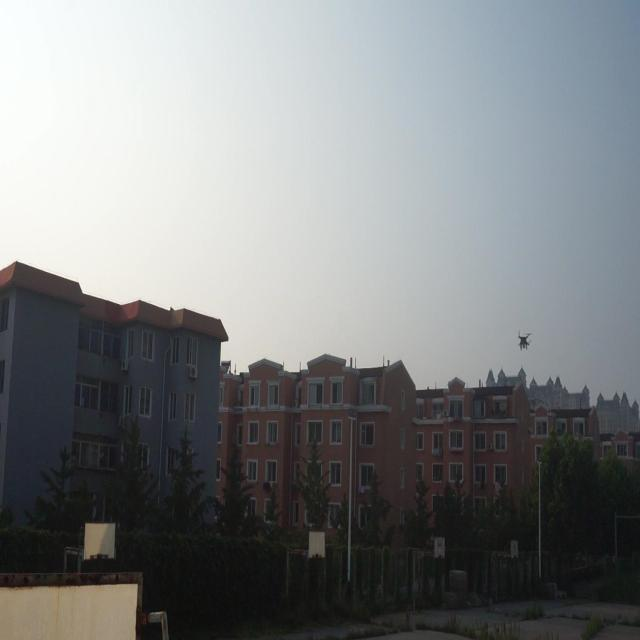drone: (515, 324, 532, 354)
